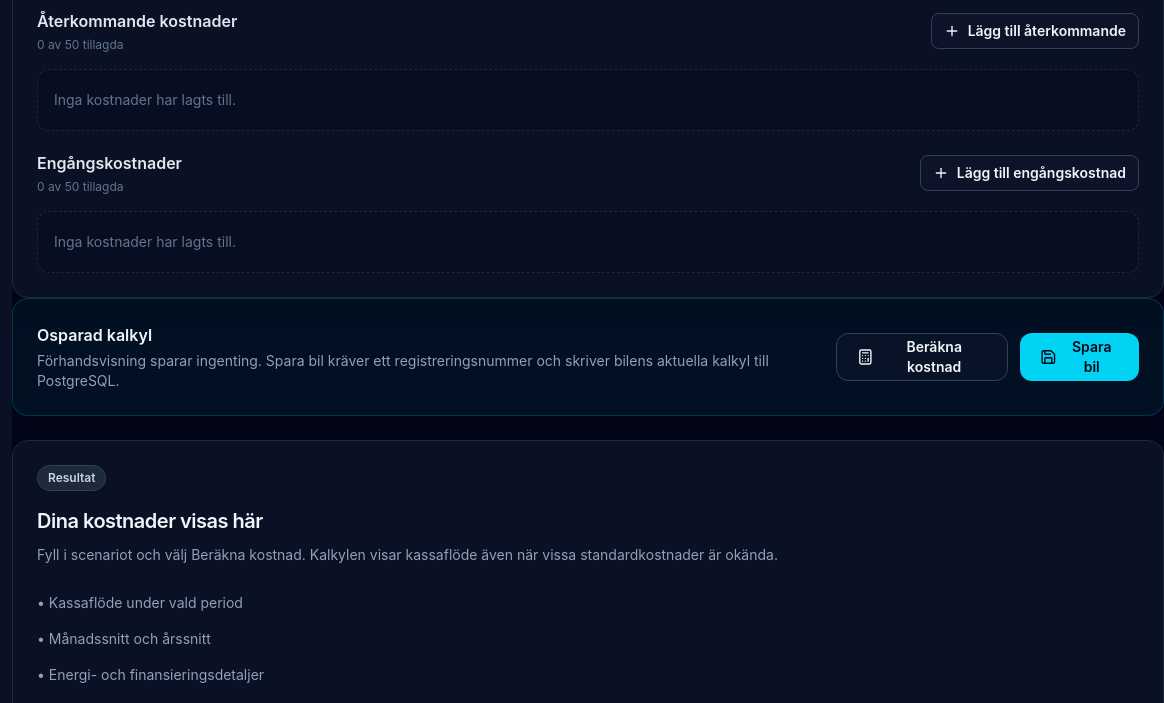
Test: ManualCalculatorPage › blocks an invalid request and focuses an accessible error summary
(page scrolled)
Click the button "Beräkna kostnad".
click(922, 357)  # box [836,333,1008,381]
(page scrolled)
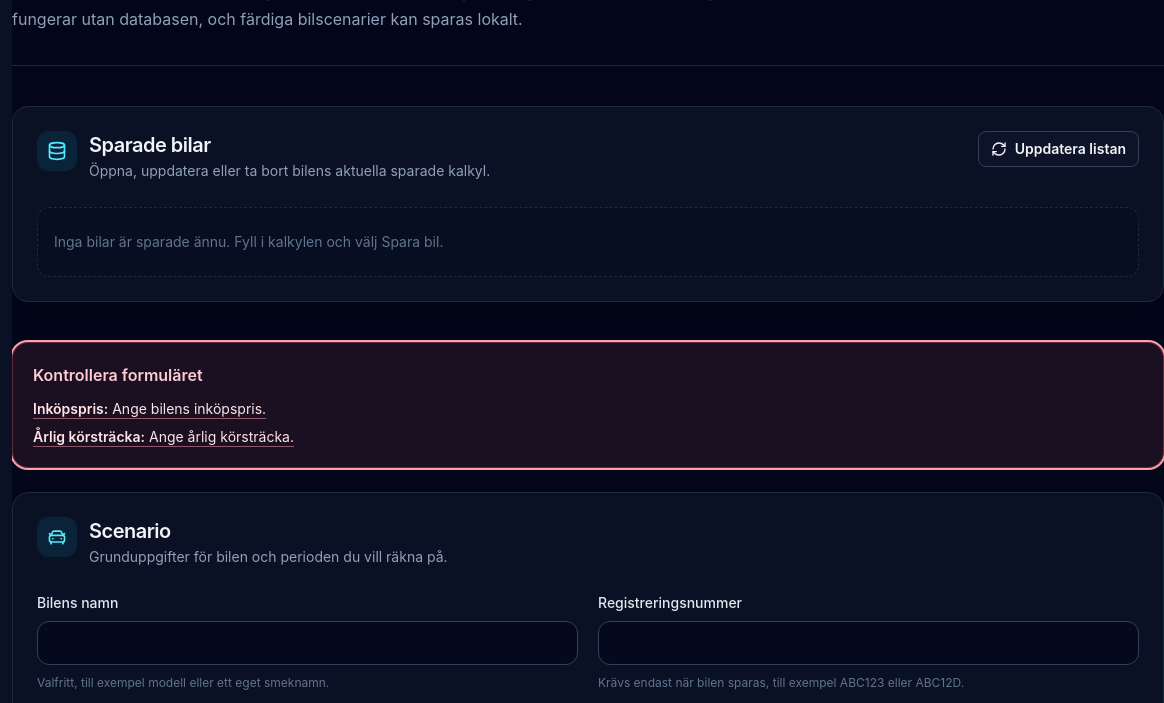
Result: the link "Inköpspris: Ange bilens inköpspris." is shown at [33,400,266,417]
Result: the link "Årlig körsträcka: Ange årlig körsträcka." is shown at [33,428,294,445]
